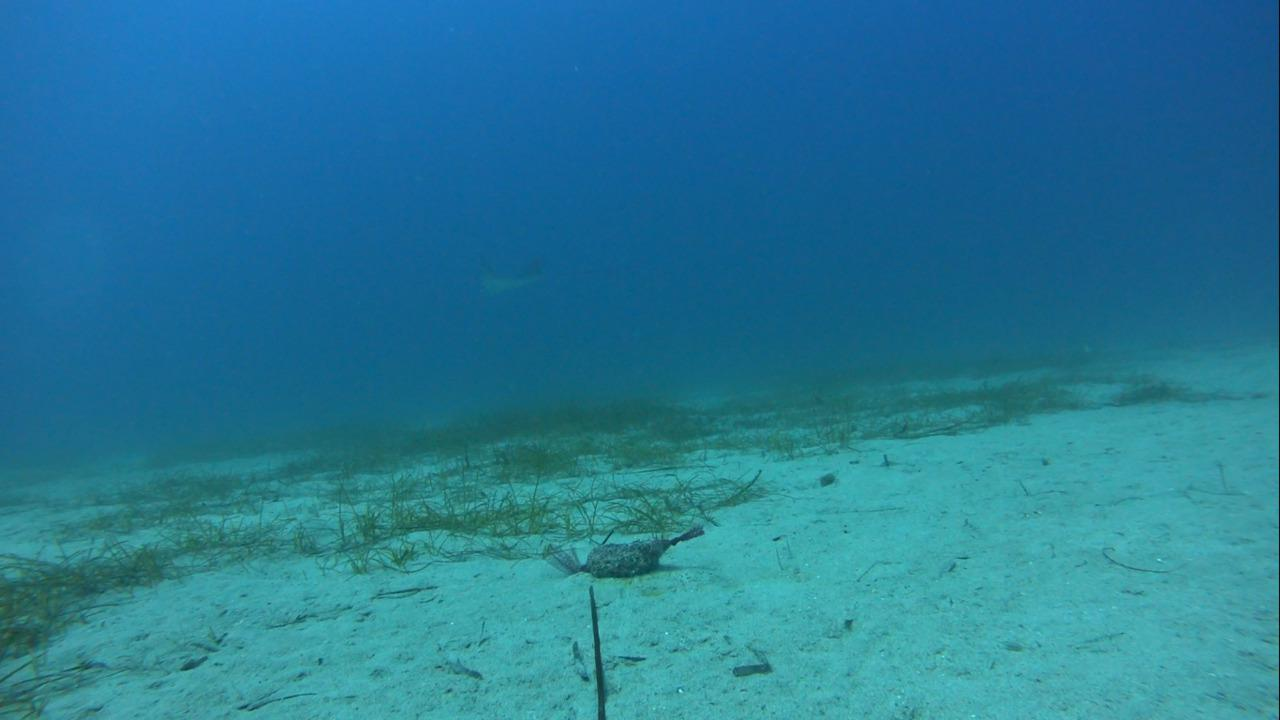myliobatis: (462, 246, 603, 302)
